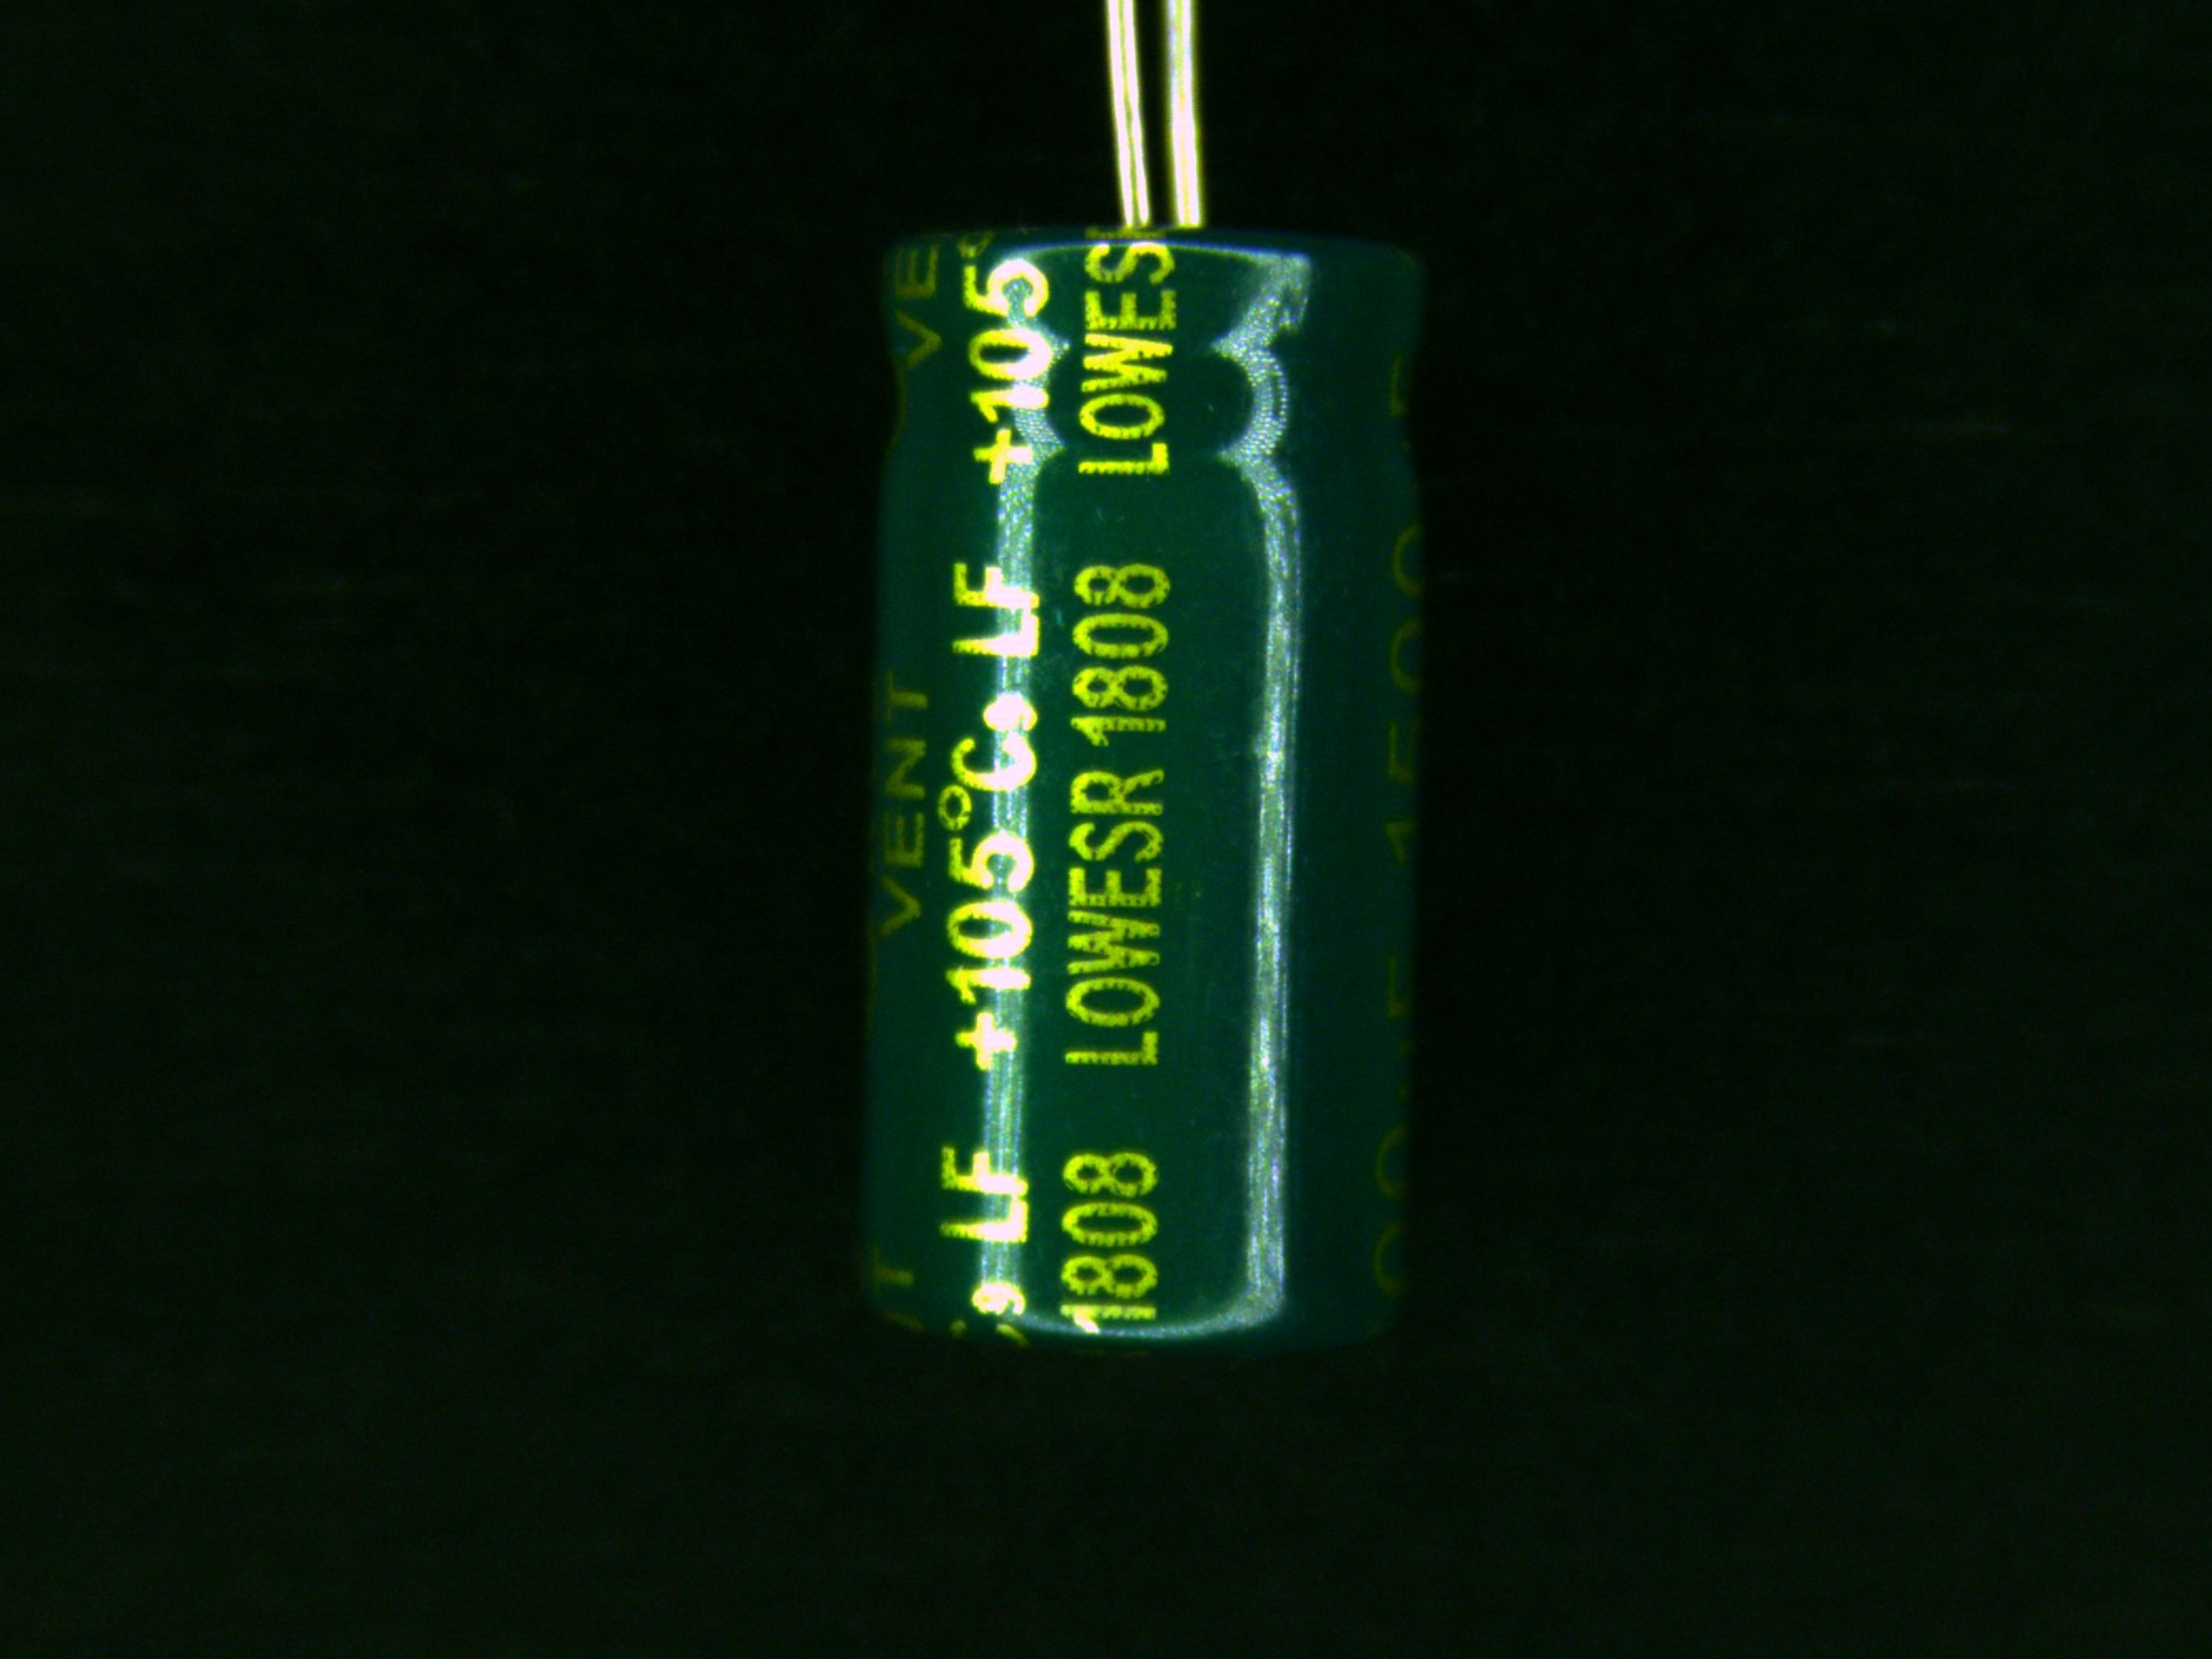c1: (852, 169, 1439, 1344)
